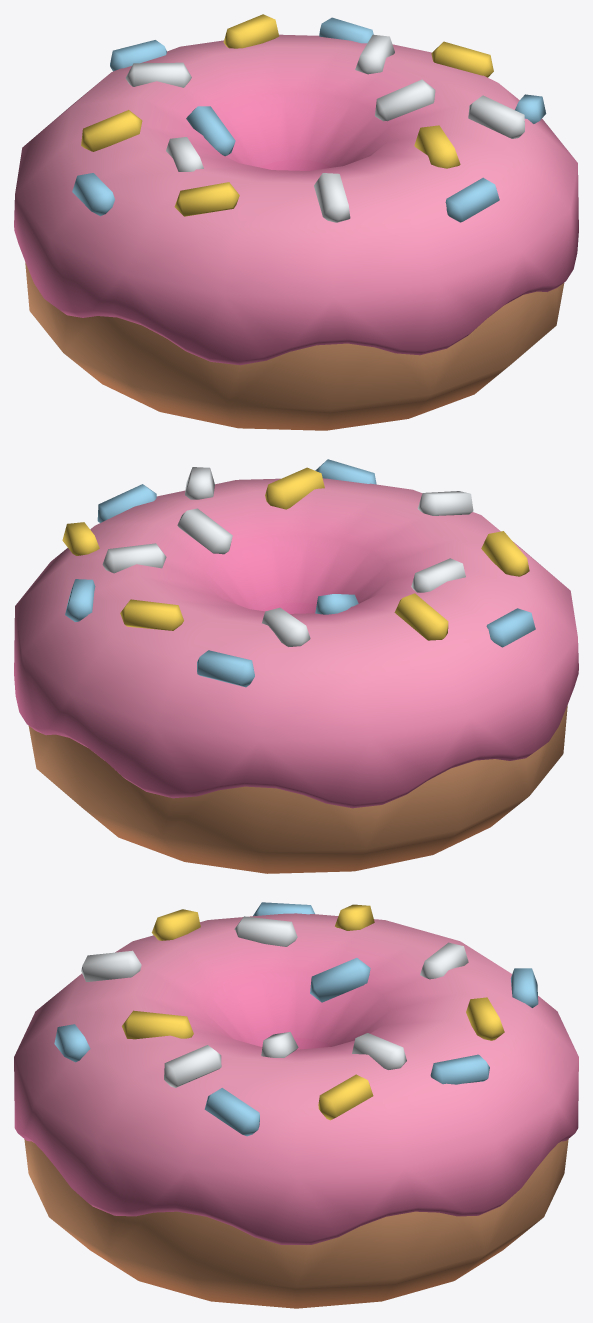
File: donut_pink.obj
The picture shows the model from 3 angles, top to bottom: view 1: azimuth 30°, elevation 25°; view 2: azimuth 150°, elevation 25°; view 3: azimuth 270°, elevation 25°; orthographic projection.
Parts seen in each view (by area): view 1: donut_pink; view 2: donut_pink; view 3: donut_pink.
Part boxes in pixels (x1,y1,x2,y2): donut_pink: (14,14,578,430); donut_pink: (14,459,578,873); donut_pink: (14,902,578,1308).
Bounding box in the file's own units: 0.417 × 0.2047 × 0.417.
1 material, 1 textured.
